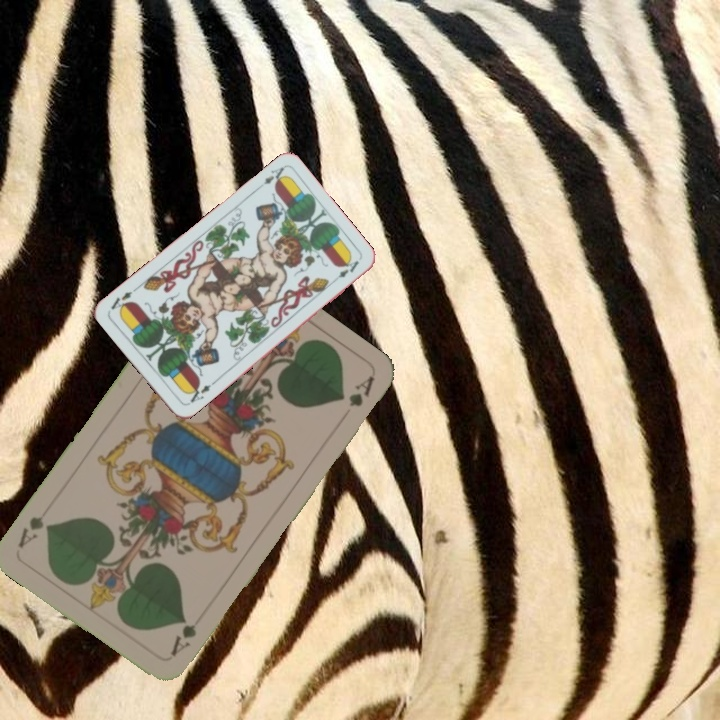EA: (253, 163, 289, 193), (183, 377, 218, 407)
GA: (166, 615, 199, 659)
